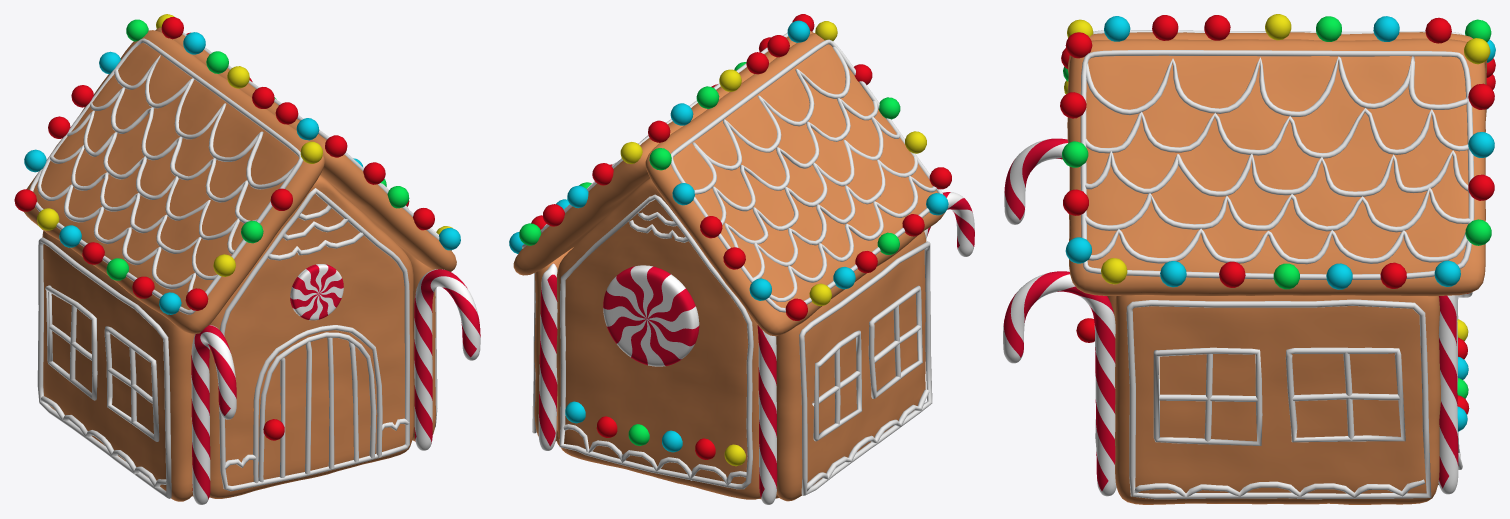
File: GingerbreadHouse.fbx
3 views of the same model, side by side, from view 1: azimuth 30°, elevation 25°; view 2: azimuth 150°, elevation 25°; view 3: azimuth 270°, elevation 25° (orthographic). The views are drawn at different scales.
Parts seen in each view (by area): view 1: Cube.001, Cube.002, Cube.003, Simple_GP_Layer.001, Simple_GP_Layer, Vert.001, Vert.009, Simple_GP_Layer.002, Peppermint; view 2: Cube.001, Cube.002, Cube.003, Simple_GP_Layer, Simple_GP_Layer.001, Peppermint.001, Simple_GP_Layer.003, Vert.002, Vert.003, Vert.009; view 3: Cube.001, Cube.003, Simple_GP_Layer, Simple_GP_Layer.001, Vert.001, Vert.002, Vert.009, Roundcube.002, Roundcube.006, Roundcube.001, Roundcube.012, Roundcube.042 (+19 smaller).
Boxes of the visible parts, box(x1,y1,x2,y2) form: Cube.001: box(24, 27, 456, 334); Cube.002: box(209, 175, 413, 498); Cube.003: box(42, 231, 435, 501); Simple_GP_Layer.001: box(37, 188, 437, 498); Simple_GP_Layer: box(29, 32, 451, 314); Vert.001: box(414, 269, 480, 450); Vert.009: box(191, 325, 236, 504); Simple_GP_Layer.002: box(224, 337, 409, 477); Peppermint: box(290, 264, 343, 320); Cube.001: box(513, 31, 945, 336); Cube.002: box(556, 178, 760, 499); Cube.003: box(534, 231, 926, 501); Simple_GP_Layer: box(522, 33, 942, 312); Simple_GP_Layer.001: box(532, 241, 932, 495); Peppermint.001: box(603, 265, 699, 366); Simple_GP_Layer.003: box(559, 194, 753, 489); Vert.002: box(538, 263, 557, 450); Vert.003: box(757, 325, 777, 504); Vert.009: box(924, 192, 974, 256); Cube.001: box(1067, 32, 1486, 296); Cube.003: box(1115, 295, 1440, 504); Simple_GP_Layer: box(1080, 30, 1474, 279); Simple_GP_Layer.001: box(1095, 299, 1431, 499); Vert.001: box(1003, 271, 1116, 496); Vert.002: box(1438, 295, 1458, 494); Vert.009: box(1004, 138, 1067, 224); Roundcube.002: box(1062, 141, 1088, 167); Roundcube.006: box(1160, 261, 1186, 287); Roundcube.001: box(1060, 92, 1086, 118); Roundcube.012: box(1468, 174, 1494, 200); Roundcube.042: box(1465, 219, 1491, 245).
Bounding box in the file's own units: 248 × 285 × 301.
